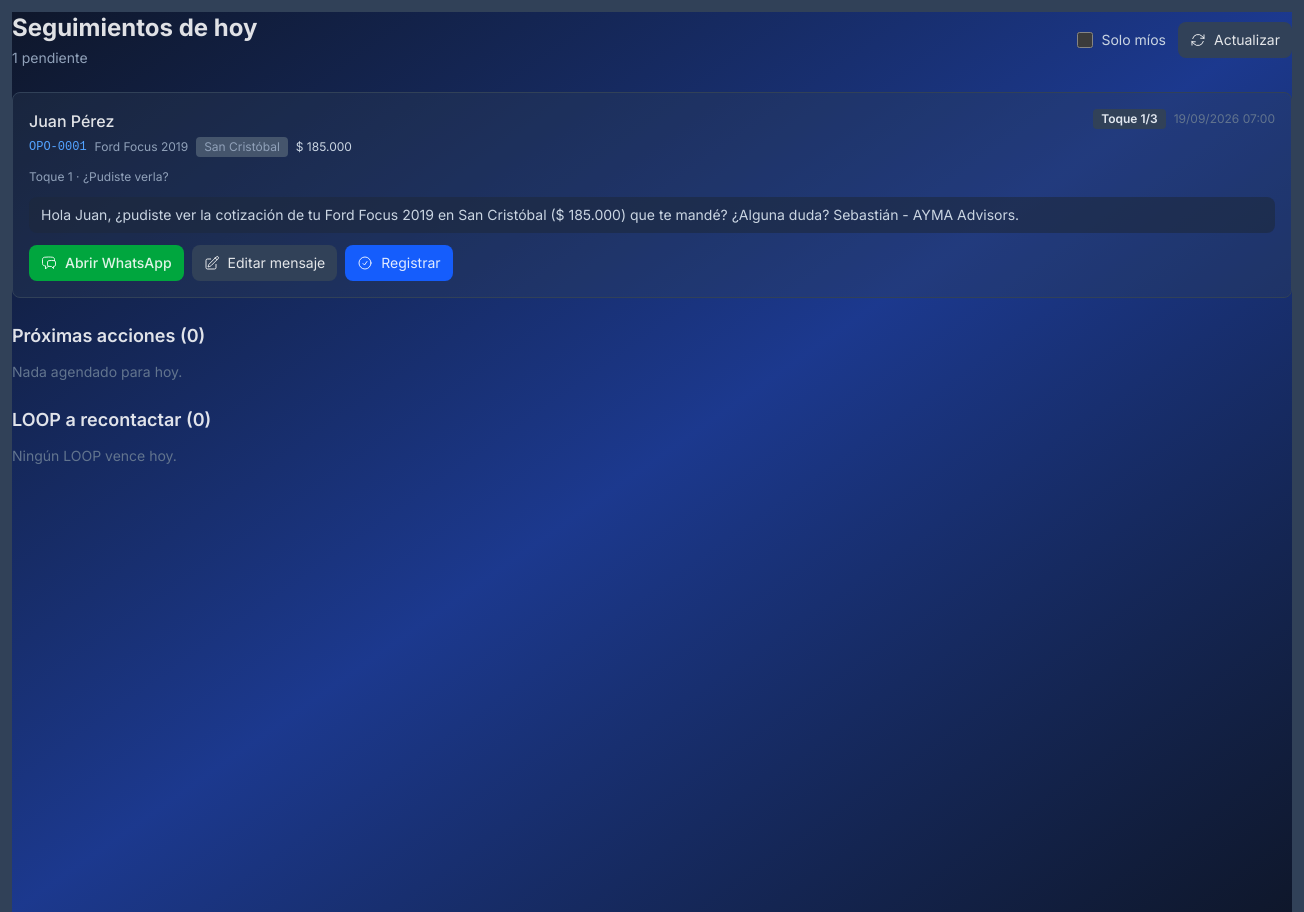
Scenario: SeguimientosHoyPanel › el toque 1 no arranca editable y se puede editar a pedido
Check: the button "Juan Pérez" is shown, box [29, 109, 114, 133]
Click the button "Editar mensaje": (264,263) [192, 245, 337, 281]
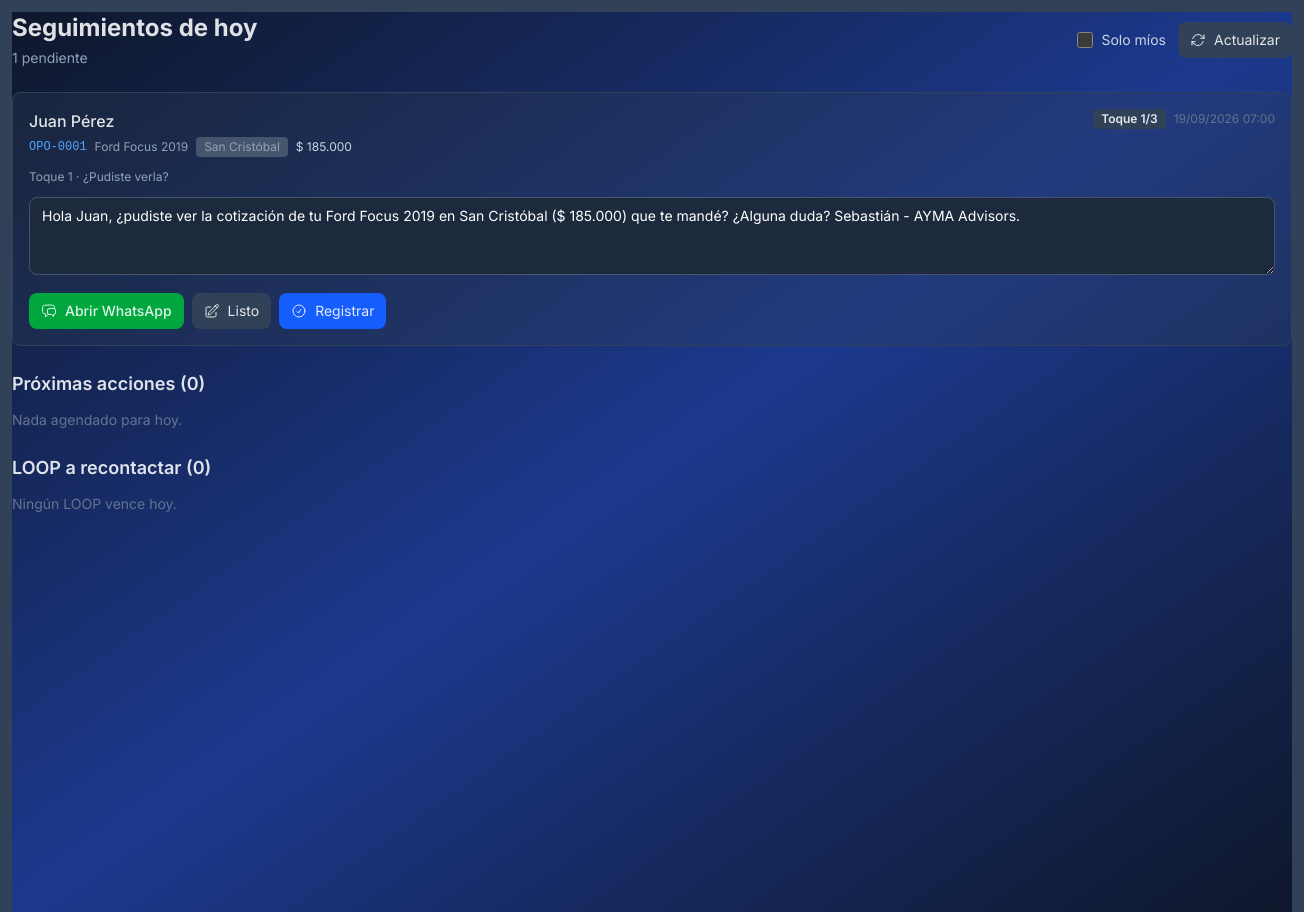
Check: the text box named "Mensaje de WhatsApp" is shown, box [29, 197, 1275, 275]
